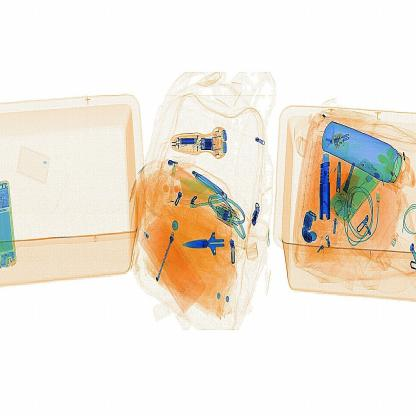gun: (183, 230, 237, 260)
